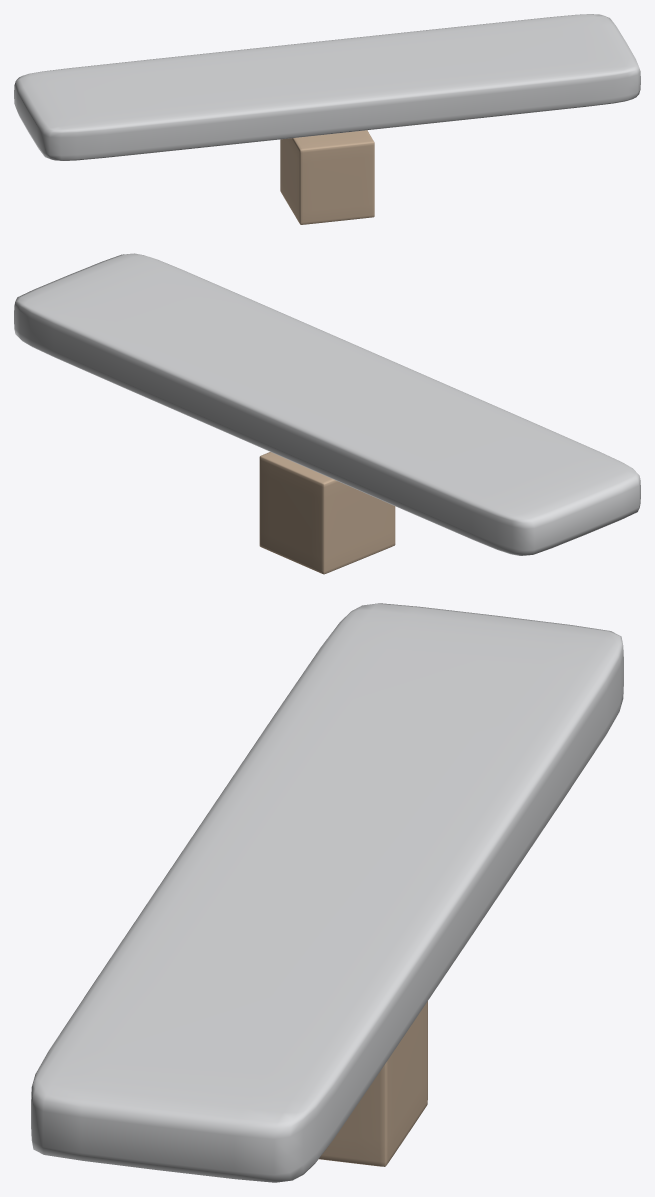
File: PROP_SignPost_v1.glb
The picture shows the model from 3 angles, top to bottom: view 1: azimuth 30°, elevation 25°; view 2: azimuth 150°, elevation 25°; view 3: azimuth 270°, elevation 25°; orthographic projection. The views are drawn at different scales.
Parts seen in each view (by area): view 1: PROP_SignPost_v1; view 2: PROP_SignPost_v1; view 3: PROP_SignPost_v1.
Part boxes in pixels (box(x1,y1,x2,y2)): PROP_SignPost_v1: box(14, 14, 640, 224); PROP_SignPost_v1: box(14, 253, 640, 574); PROP_SignPost_v1: box(31, 603, 623, 1182).
Bounding box in the file's own units: 7.51 × 1.77 × 3.56.
